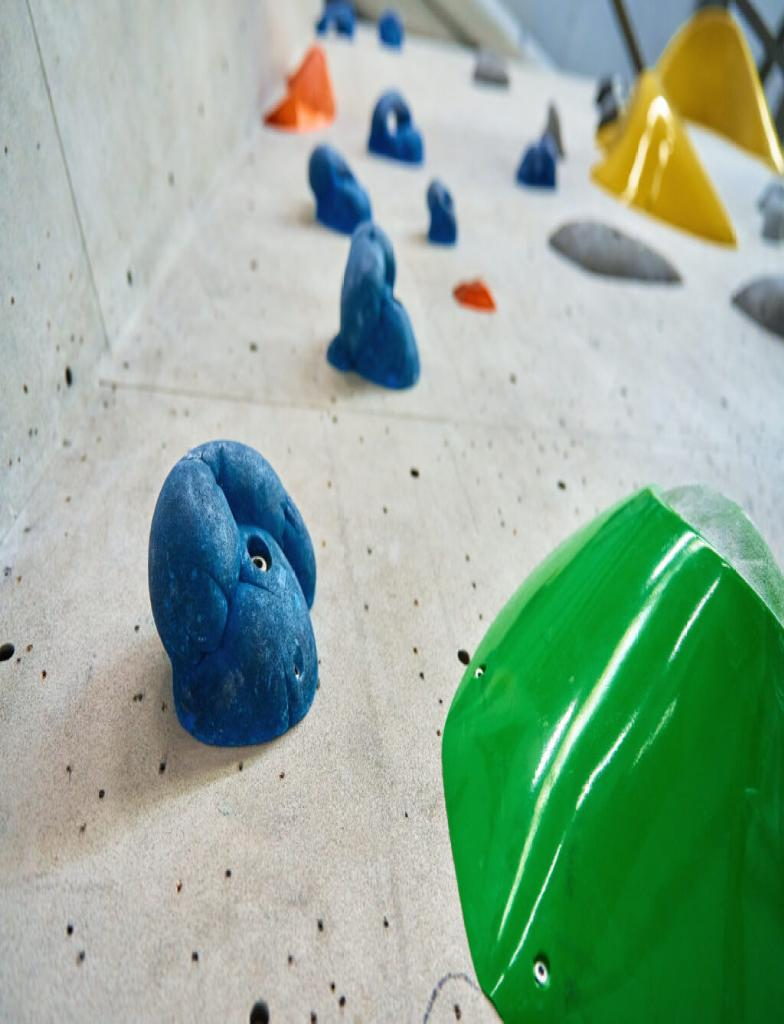jug: (149, 441, 318, 745), (328, 223, 420, 388), (309, 144, 371, 234), (368, 90, 423, 162), (426, 180, 457, 244)
